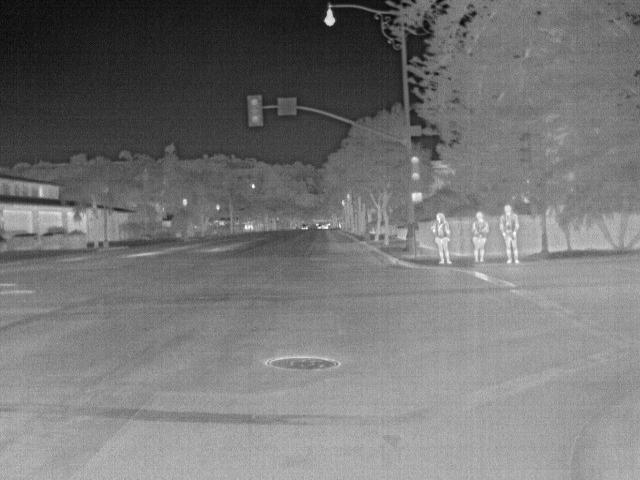person: (499, 201, 521, 265), (431, 210, 453, 265), (468, 209, 488, 262)
